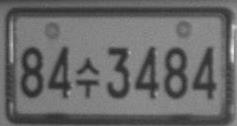3: (105, 46, 130, 98)
4: (134, 45, 160, 100), (191, 46, 217, 100), (47, 45, 73, 98)
8: (163, 46, 188, 99), (19, 46, 44, 98)
수: (75, 56, 100, 98)
